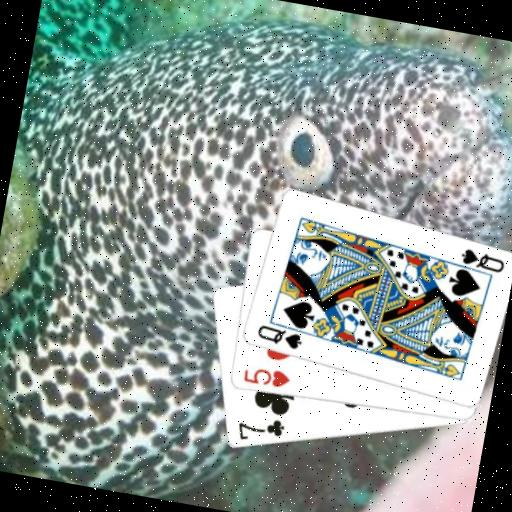5H: (238, 361, 292, 392)
7C: (232, 409, 287, 448)
QS: (455, 243, 507, 275), (252, 321, 305, 352)
